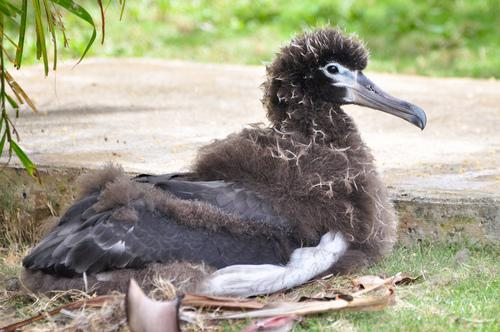002.Laysan_Albatross: (27, 26, 430, 332)
